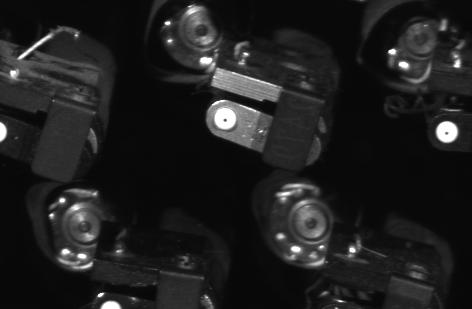fiber: (209, 101, 241, 134), (433, 117, 464, 150), (97, 297, 125, 309)
